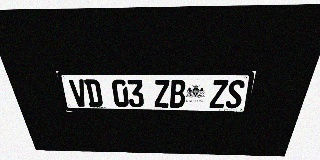0: (111, 79, 129, 107)
3: (127, 79, 144, 107)
B: (170, 80, 186, 108)
D: (84, 79, 103, 107)
S: (225, 80, 245, 108)
V: (68, 79, 89, 107)
Z: (209, 80, 228, 108), (154, 80, 169, 108)
